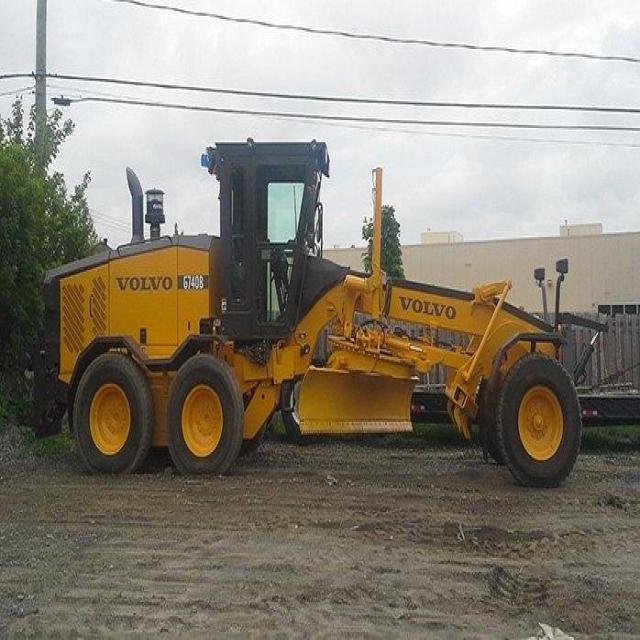buldozerpayloadergrader: (38, 120, 596, 484)
